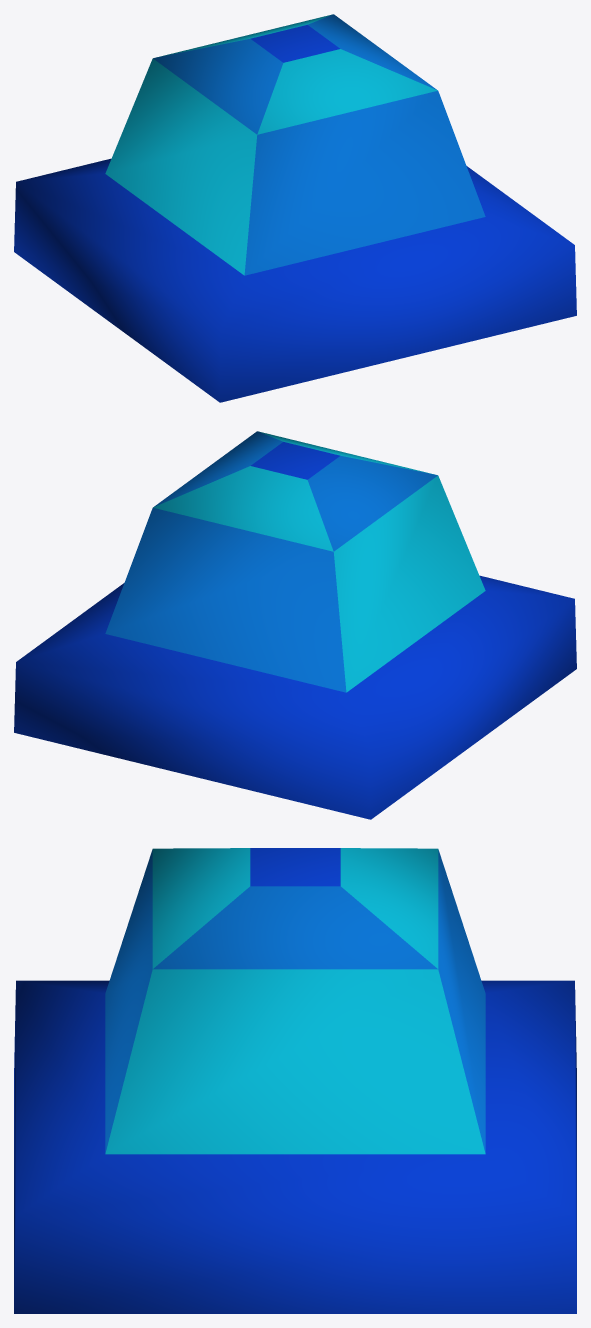
The model's file is timebomb.fbx.
3 views of the same model, one above another, from view 1: azimuth 30°, elevation 25°; view 2: azimuth 150°, elevation 25°; view 3: azimuth 270°, elevation 25° (orthographic). The views are drawn at different scales.
Parts seen in each view (by area): view 1: TimeBomb; view 2: TimeBomb; view 3: TimeBomb.
Boxes of the visible parts, box(x1,y1,x2,y2) form: TimeBomb: box(14, 14, 576, 402); TimeBomb: box(14, 431, 576, 819); TimeBomb: box(14, 848, 576, 1313).
Size of the model in its own units: 0.2858 by 0.1836 by 0.2858.
